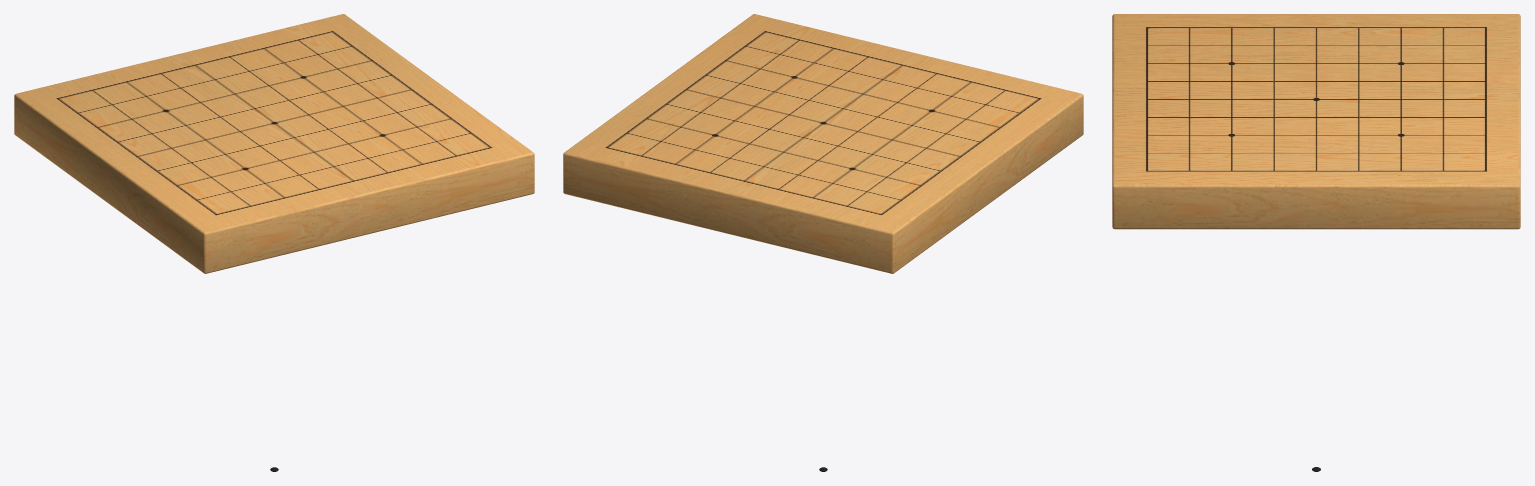
The model's file is ders-9-hafif.glb.
The picture shows the model from 3 angles, left to right: view 1: azimuth 30°, elevation 25°; view 2: azimuth 150°, elevation 25°; view 3: azimuth 270°, elevation 25°; orthographic projection. The views are drawn at different scales.
Visible parts, largest first — view 1: Tahta; view 2: Tahta; view 3: Tahta.
Boxes of the visible parts, box(x1,y1,x2,y2) form: Tahta: box(14, 14, 534, 273); Tahta: box(563, 14, 1083, 273); Tahta: box(1112, 14, 1520, 229).
Size of the model in its own units: 1 by 1 by 1.
4 materials, 3 textured.
